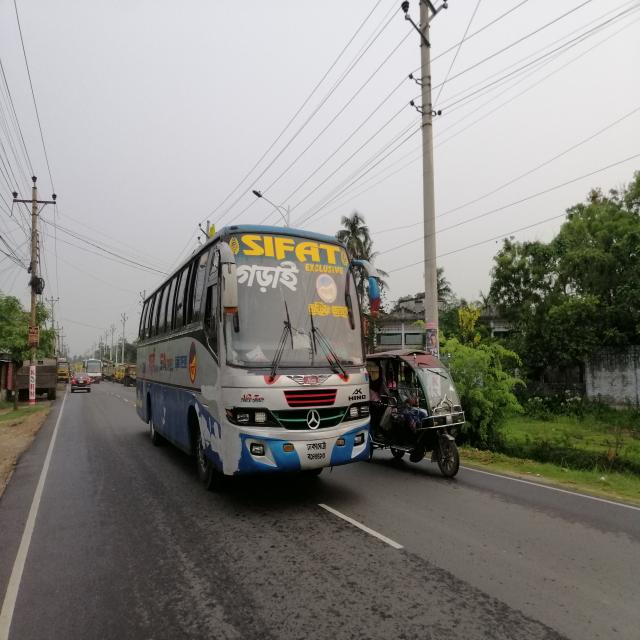Bus: (124, 207, 384, 498), (82, 348, 112, 395)
Car: (63, 359, 104, 405)
Easybike: (355, 333, 486, 503)
